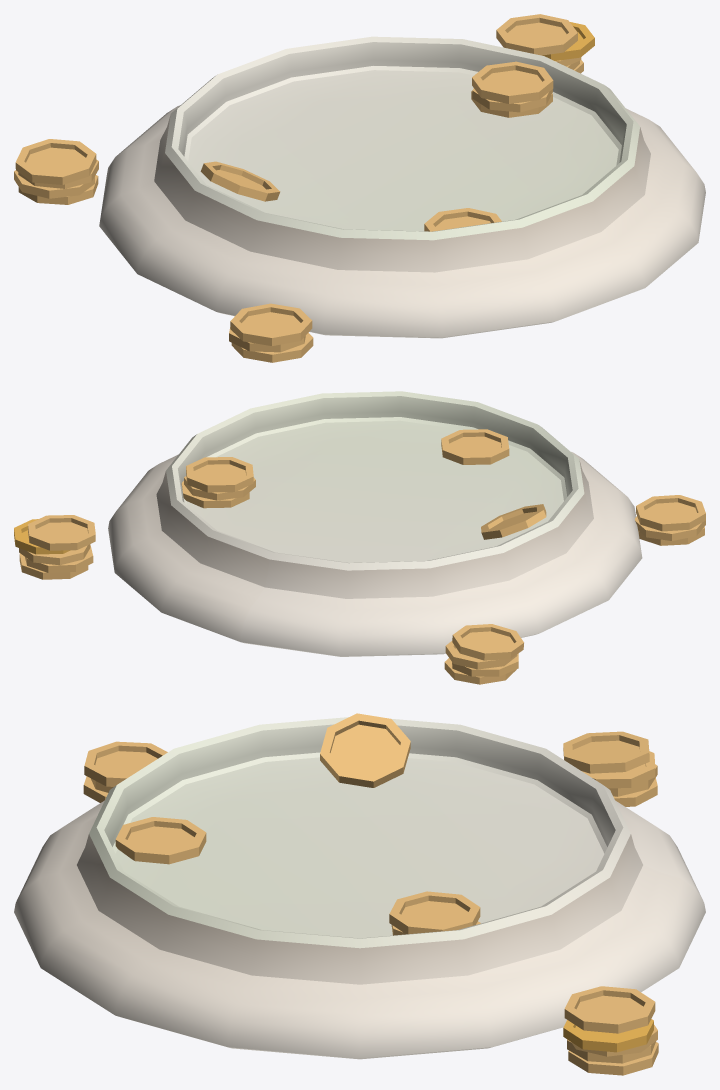
File: gold_Platform001.fbx
3 views of the same model, one above another, from view 1: azimuth 30°, elevation 25°; view 2: azimuth 150°, elevation 25°; view 3: azimuth 270°, elevation 25° (orthographic). The views are drawn at different scales.
Visible parts, largest first — view 1: Gold; view 2: Gold; view 3: Gold.
Part boxes in pixels (x1=…): Gold: x1=14, y1=14, x2=705, y2=362; Gold: x1=14, y1=391, x2=705, y2=684; Gold: x1=14, y1=713, x2=705, y2=1075.
Size of the model in its own units: 243 by 36.83 by 227.
